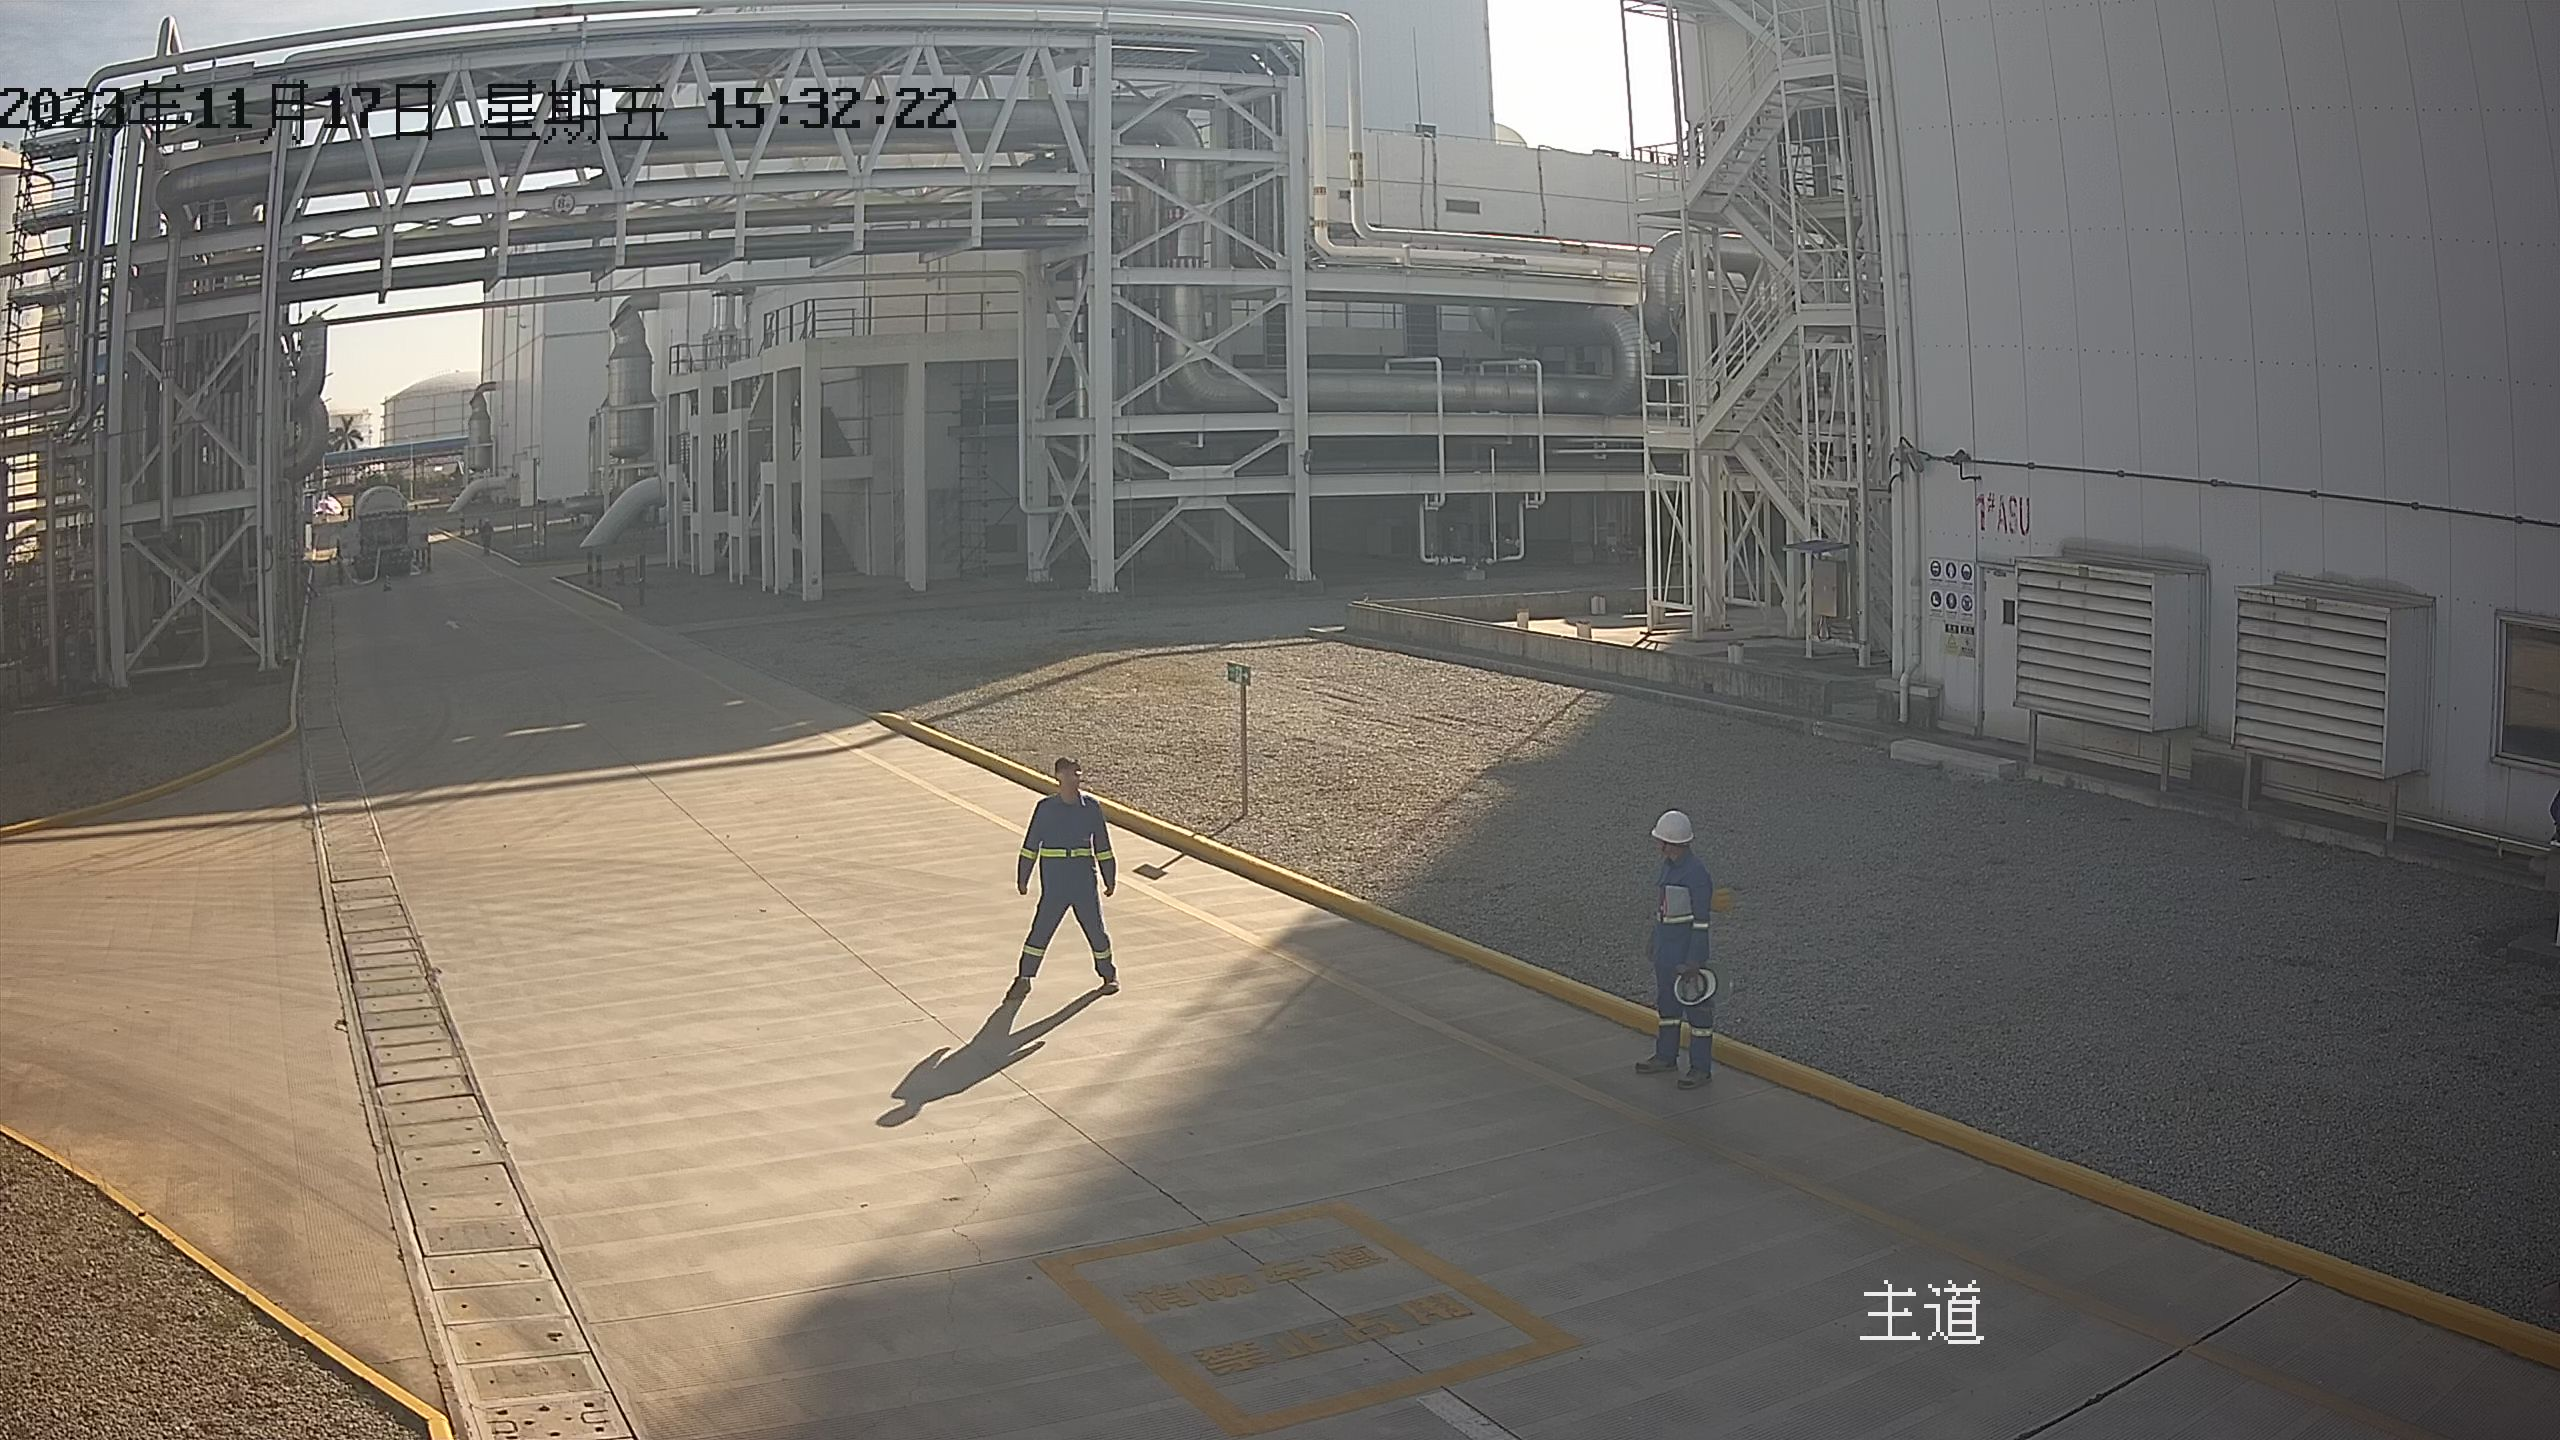Head_with_Helmet: (1634, 785, 1733, 864)
Head_without_covering: (1030, 740, 1102, 808)
Uniform: (1602, 846, 1765, 1101), (991, 787, 1164, 1025)
